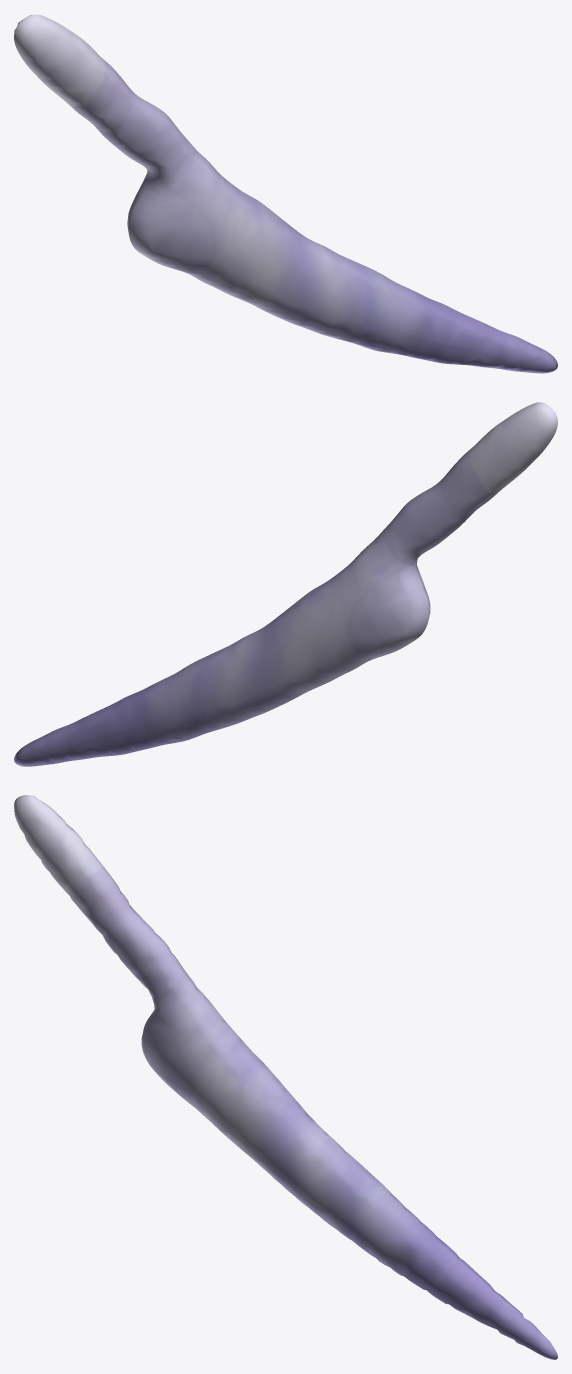
Rendered from knife.glb.
The picture shows the model from 3 angles, top to bottom: view 1: azimuth 30°, elevation 25°; view 2: azimuth 150°, elevation 25°; view 3: azimuth 330°, elevation 25°; orthographic projection. The views are drawn at different scales.
Parts seen in each view (by area): view 1: Mesh_0.009; view 2: Mesh_0.009; view 3: Mesh_0.009.
Part boxes in pixels (x1=…): Mesh_0.009: x1=14, y1=14, x2=557, y2=373; Mesh_0.009: x1=14, y1=402, x2=557, y2=766; Mesh_0.009: x1=14, y1=795, x2=557, y2=1359.
Size of the model in its own units: 188 by 161 by 25.6.
Materials: 1 (1 with a texture image).
